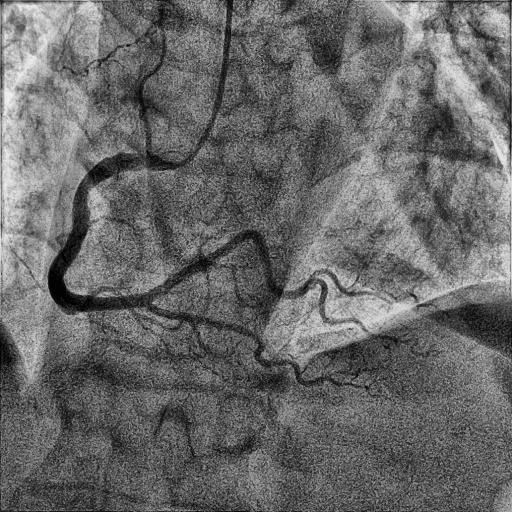pborca: (145, 230, 400, 343)
pda: (145, 304, 375, 397)
rca: (48, 152, 151, 314)
